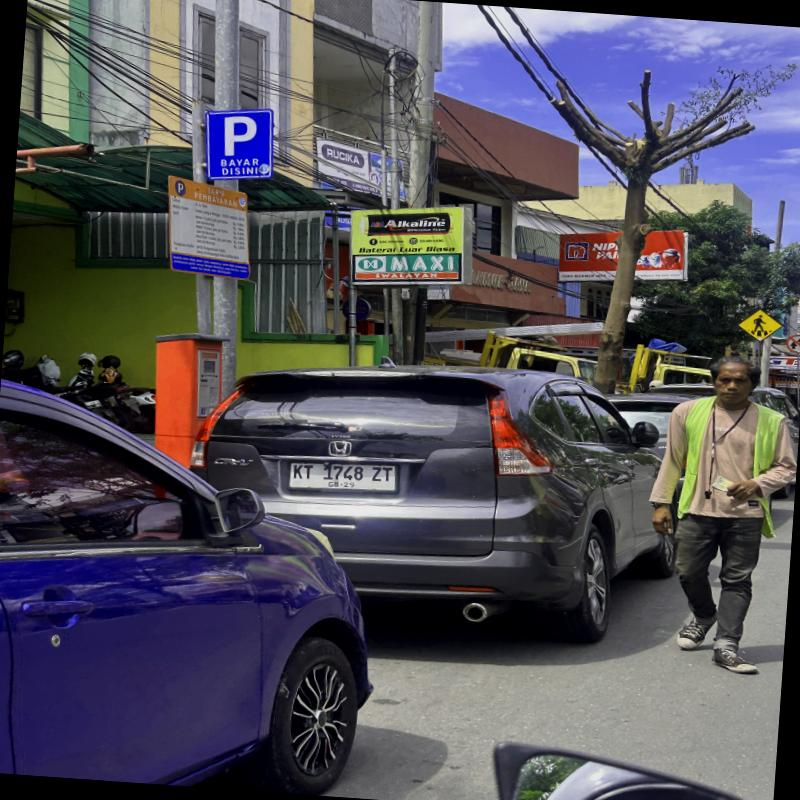license plate on a car: (288, 460, 398, 490)
